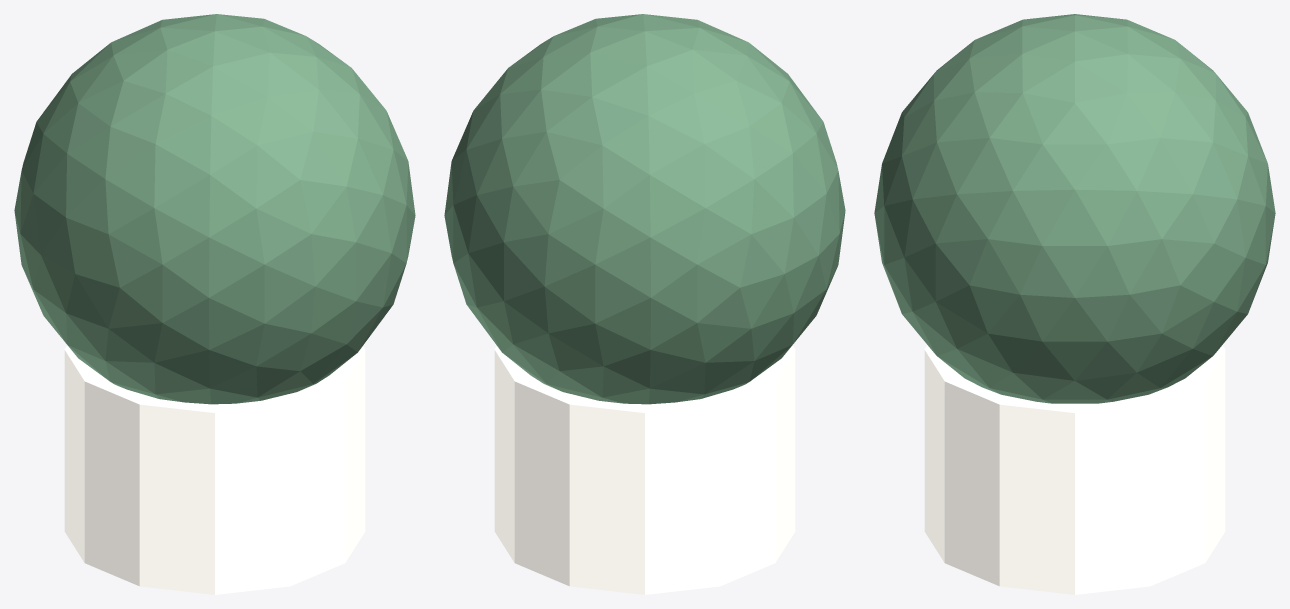
Rendered from planter-palace.glb.
3 renders of one model, left to right at view 1: azimuth 30°, elevation 25°; view 2: azimuth 150°, elevation 25°; view 3: azimuth 270°, elevation 25°, orthographic.
Visible parts, largest first — view 1: leaves, pot; view 2: leaves, pot; view 3: leaves, pot.
Part boxes in pixels (x1=…): leaves: x1=14, y1=14, x2=415, y2=404; pot: x1=64, y1=345, x2=365, y2=594; leaves: x1=444, y1=14, x2=845, y2=404; pot: x1=494, y1=345, x2=795, y2=594; leaves: x1=874, y1=14, x2=1275, y2=403; pot: x1=924, y1=345, x2=1225, y2=594.
Size of the model in its own units: 1.2 by 1.65 by 1.2.
